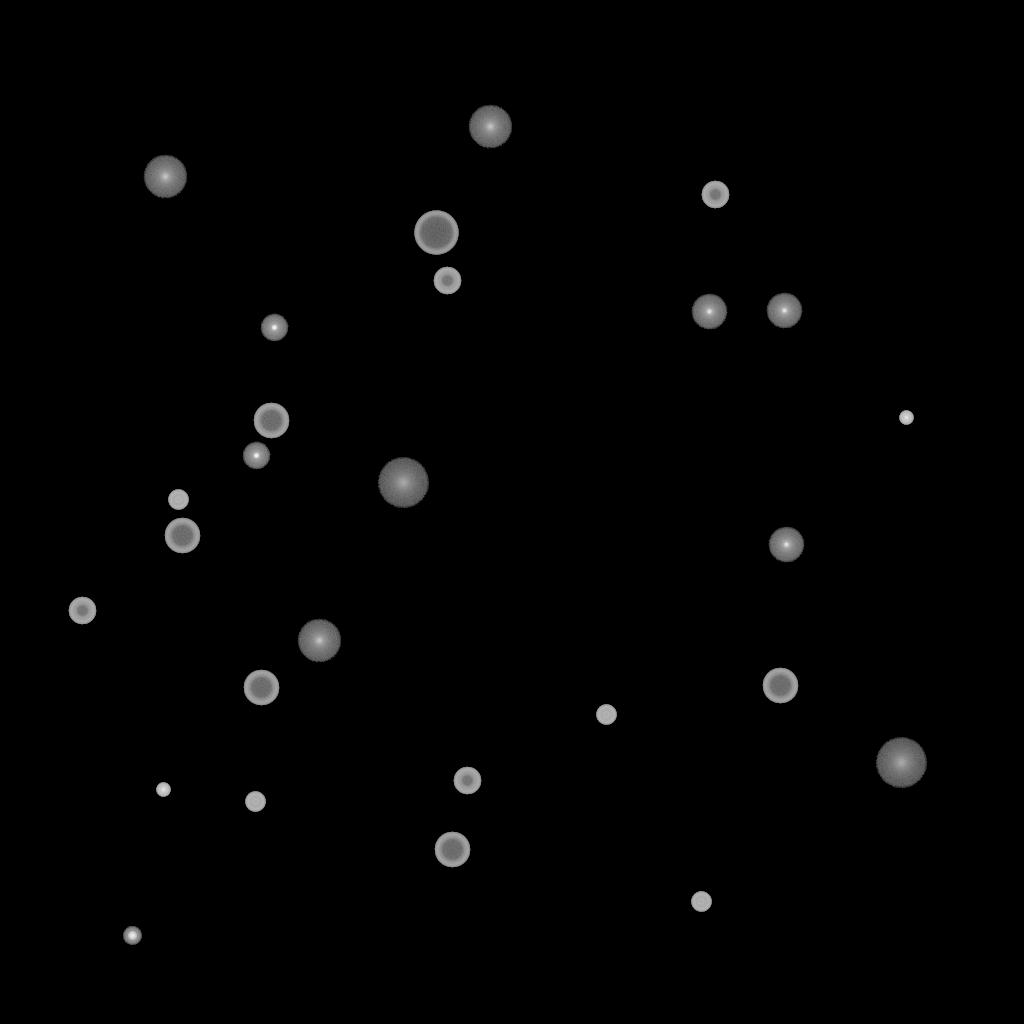depth:-10: (260, 314, 288, 342), (242, 442, 270, 470)
depth:-20: (123, 927, 141, 945)
depth:-30: (156, 783, 170, 797), (899, 411, 913, 425)
depth:-40: (245, 792, 265, 812), (168, 490, 188, 510), (691, 892, 711, 912), (596, 705, 616, 725)
depth:-50: (433, 267, 461, 295), (453, 767, 481, 795), (701, 181, 729, 209), (68, 597, 96, 625)
depth:-60: (434, 832, 470, 868), (164, 518, 200, 554), (762, 668, 798, 704), (243, 670, 279, 706), (253, 403, 289, 439)
depth:-70: (414, 211, 458, 255)
depth:0: (691, 294, 727, 330), (766, 293, 802, 329), (768, 527, 804, 563)
depth:10: (468, 105, 512, 149), (143, 155, 187, 199), (297, 619, 341, 663)
depth:20: (377, 458, 429, 508), (875, 738, 927, 788)
